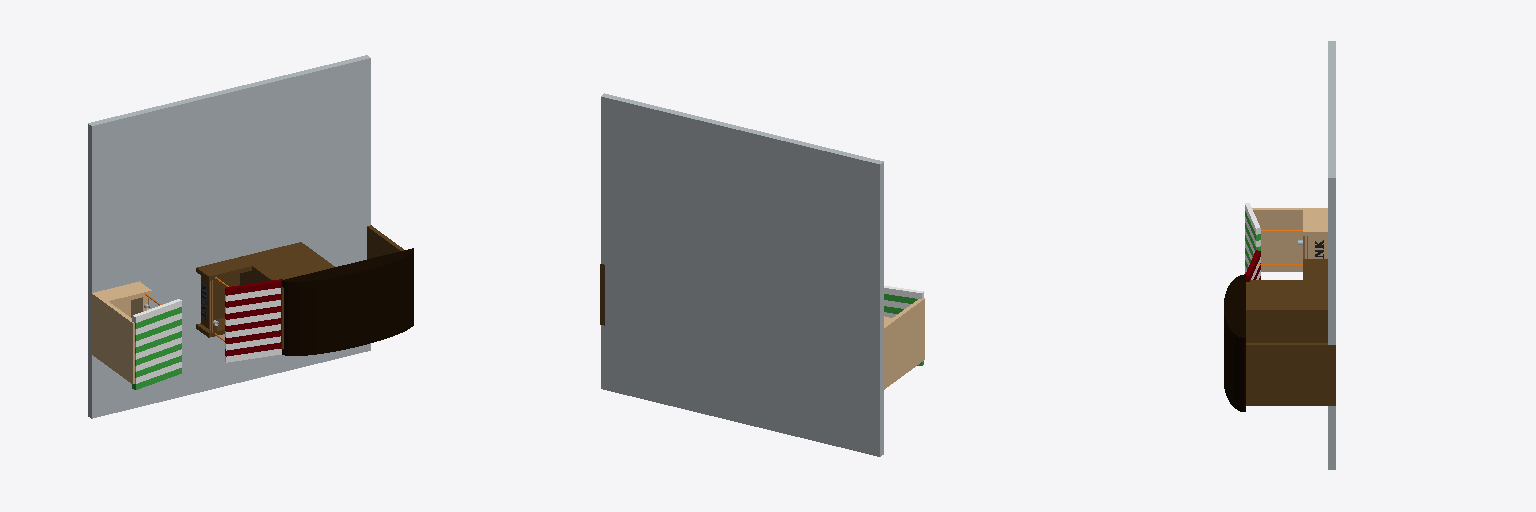
Rendered from tinker.obj.
3 renders of one model, left to right at view 1: azimuth 30°, elevation 25°; view 2: azimuth 150°, elevation 25°; view 3: azimuth 270°, elevation 25°, orthographic.
Parts seen in each view (by area): view 1: obj_0; view 2: obj_0; view 3: obj_0.
Boxes of the visible parts, x1,y1,x2,y2 form: obj_0: [88, 55, 413, 418]; obj_0: [600, 93, 924, 456]; obj_0: [1224, 41, 1335, 469].
Size of the model in its own units: 20.07 by 20 by 6.99.